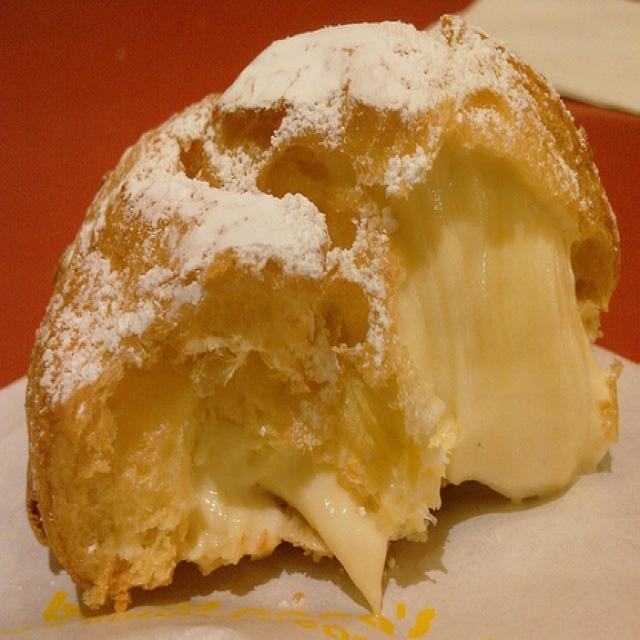炸货点心: (18, 21, 621, 618)
蛋糕甜品: (18, 21, 621, 618)
